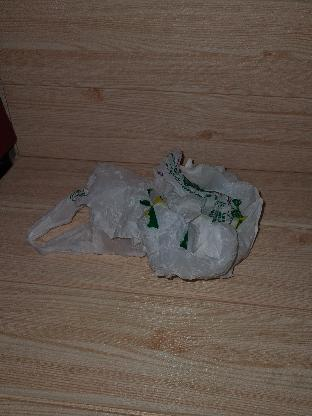Plastic Bag: (26, 144, 270, 288)
